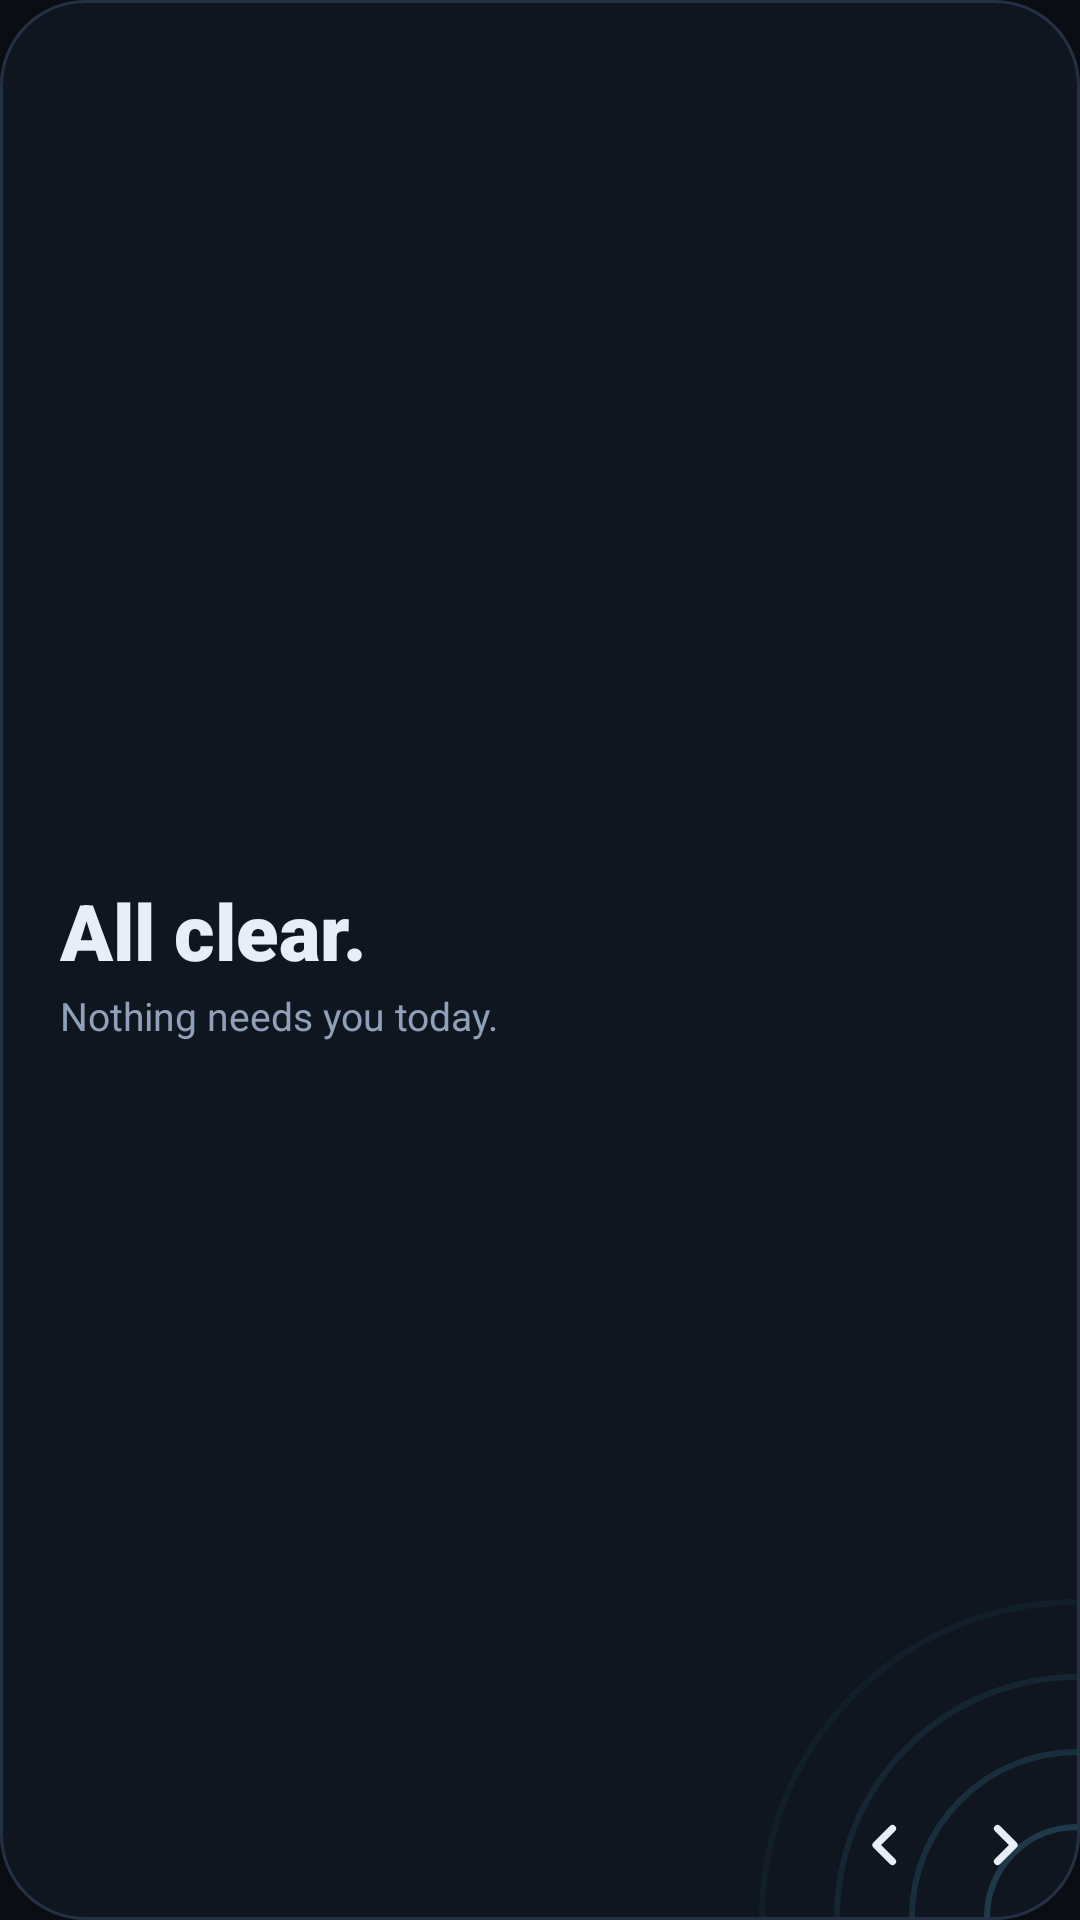

Icon click points for this 1080 x 1920 phone screenshot, format point (x, y):
Previous: point (884, 1845)
